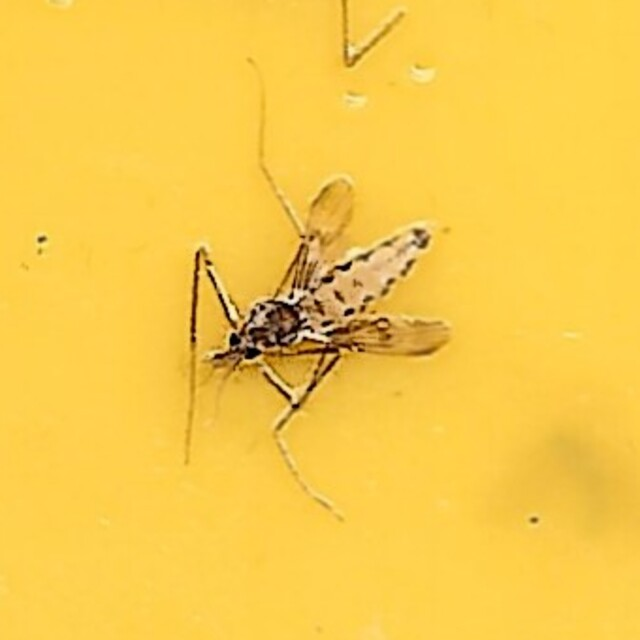Nematocera: (188, 187, 452, 453)
